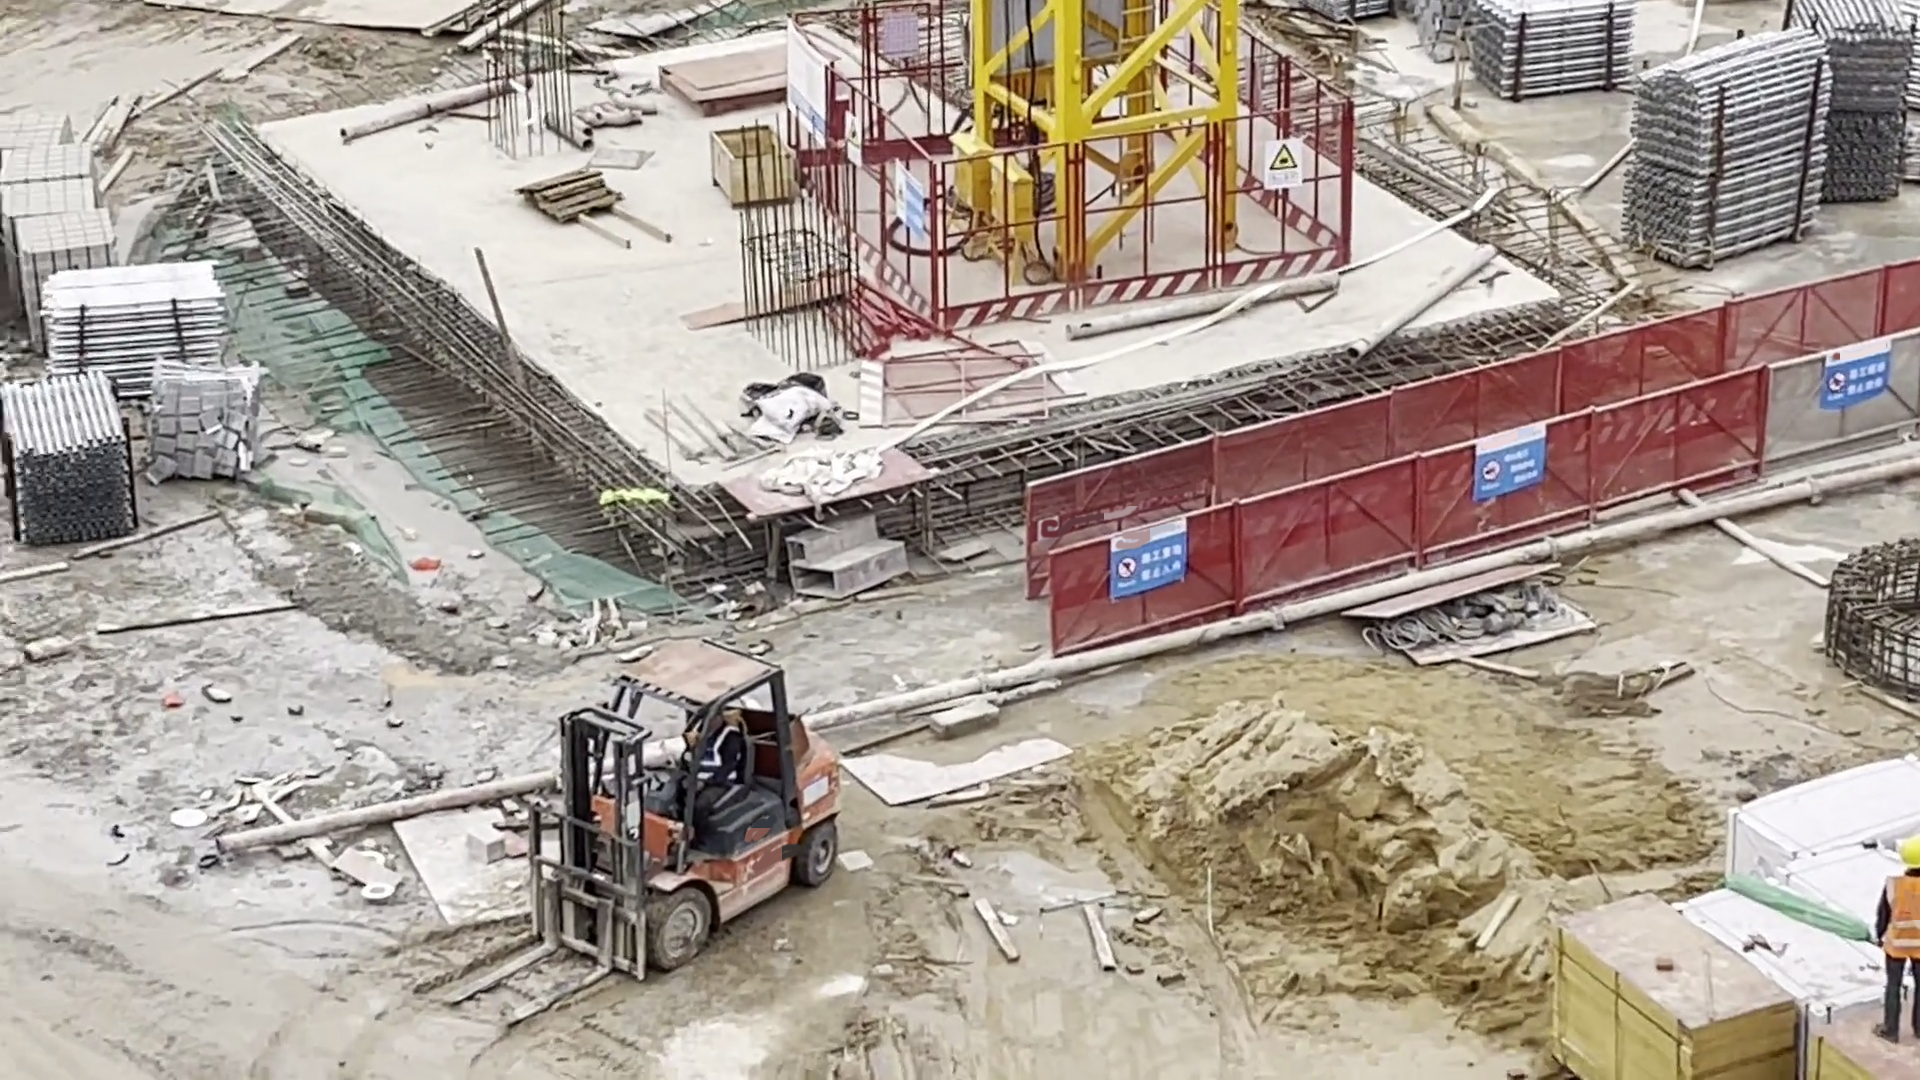board: (1545, 894, 1800, 1080)
brick: (1, 110, 117, 263)
ebox: (990, 153, 1040, 287), (946, 132, 992, 242)
person: (1869, 834, 1920, 1045)
scaffold: (1625, 26, 1833, 271), (42, 260, 228, 400), (1786, 1, 1911, 204), (1, 368, 131, 550), (1429, 1, 1629, 99)
slogan: (1108, 518, 1188, 602), (1475, 422, 1547, 501), (1822, 340, 1891, 410), (895, 159, 924, 241)
vest: (1885, 875, 1920, 961)
